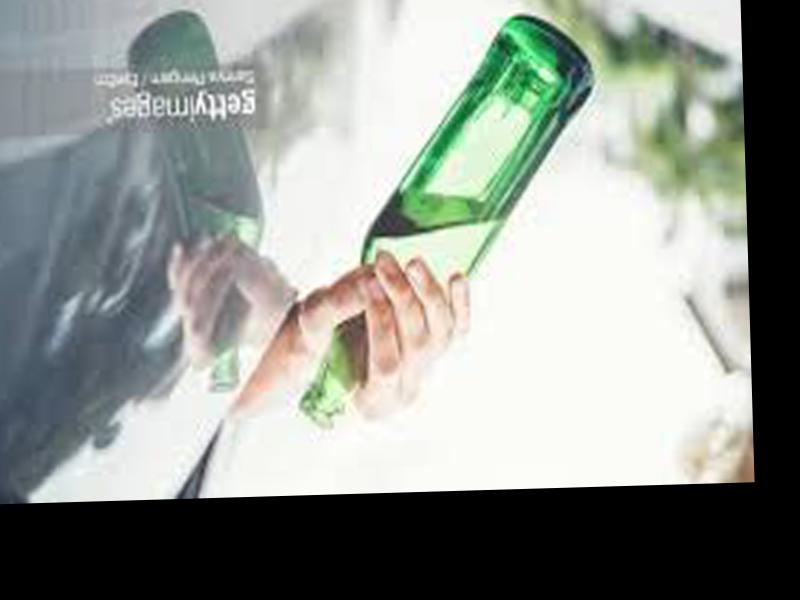Beer: (283, 14, 603, 422)
